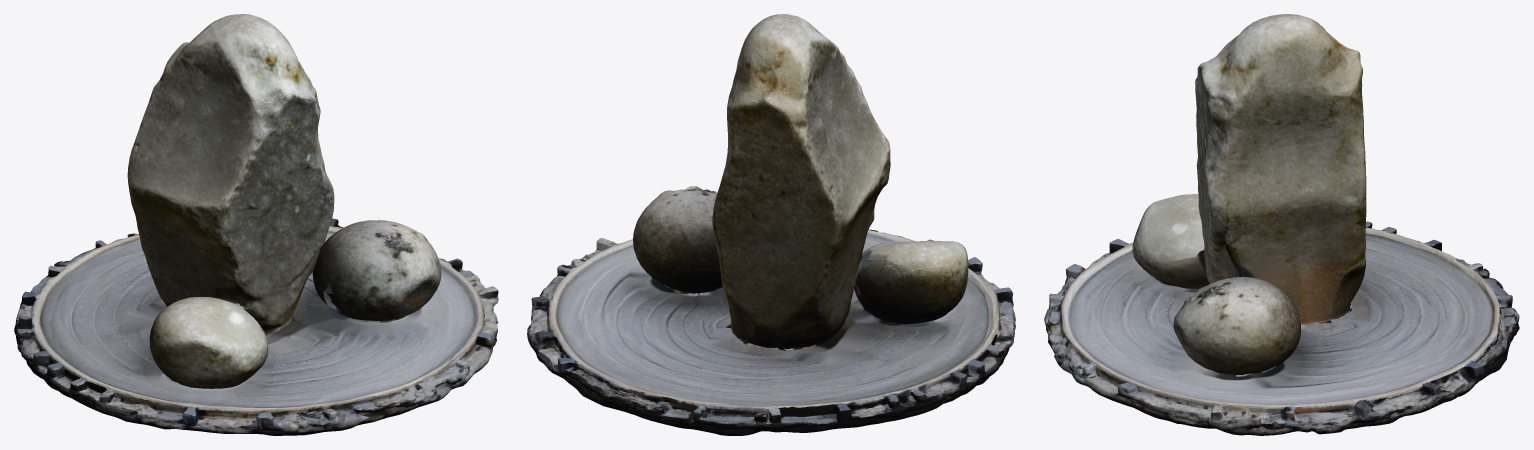
The model's file is traveler_env_coast_castle_tamori_stones_00001_.glb.
The picture shows the model from 3 angles, left to right: view 1: azimuth 30°, elevation 25°; view 2: azimuth 150°, elevation 25°; view 3: azimuth 270°, elevation 25°; orthographic projection. The views are drawn at different scales.
Visible parts, largest first — view 1: temp_mesh.ply; view 2: temp_mesh.ply; view 3: temp_mesh.ply.
Part boxes in pixels (x1,y1,x2,y2): temp_mesh.ply: (14,14,498,435); temp_mesh.ply: (527,14,1015,435); temp_mesh.ply: (1044,14,1519,435).
Size of the model in its own units: 1.97 by 1.54 by 1.95.
1 material, 1 textured.
